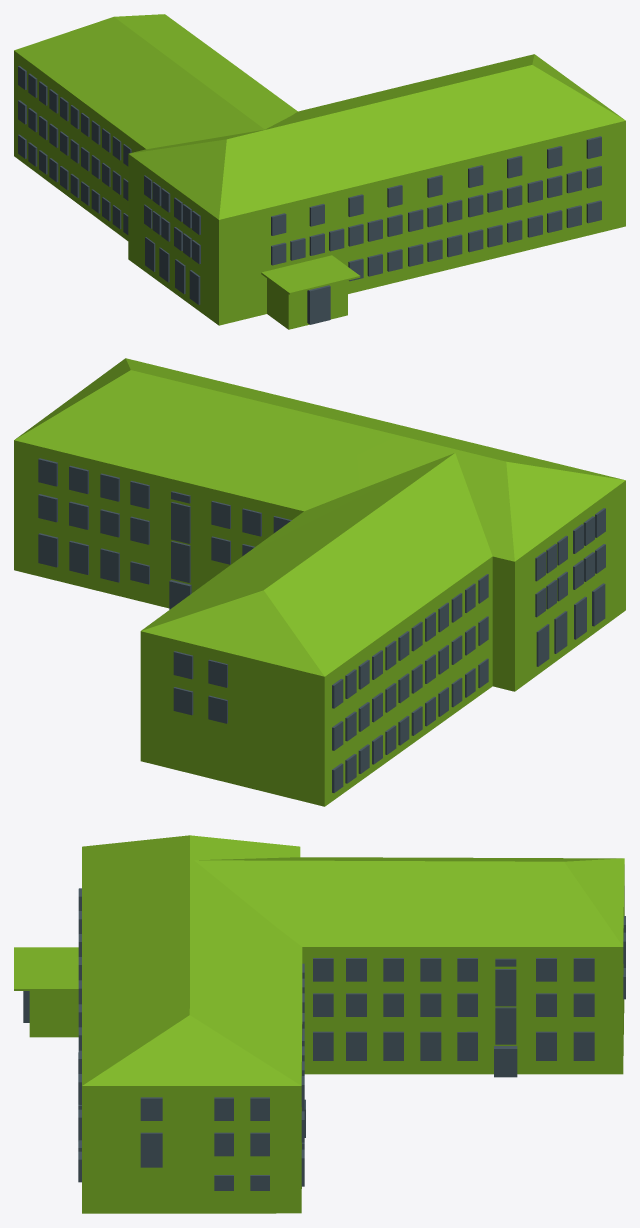
The picture shows the model from 3 angles, top to bottom: view 1: azimuth 30°, elevation 25°; view 2: azimuth 150°, elevation 25°; view 3: azimuth 270°, elevation 25°; orthographic projection. The views are drawn at different scales.
Parts seen in each view (by area): view 1: C13, Entrance_2; view 2: C13; view 3: C13, Entrance.
Part boxes in pixels (x1,y1,x2,y2): C13: (14, 14, 625, 329); Entrance_2: (307, 285, 330, 324); C13: (14, 358, 625, 806); C13: (14, 835, 625, 1213); Entrance: (494, 1046, 517, 1077).
Size of the model in its own units: 36.56 by 11.98 by 39.14.
